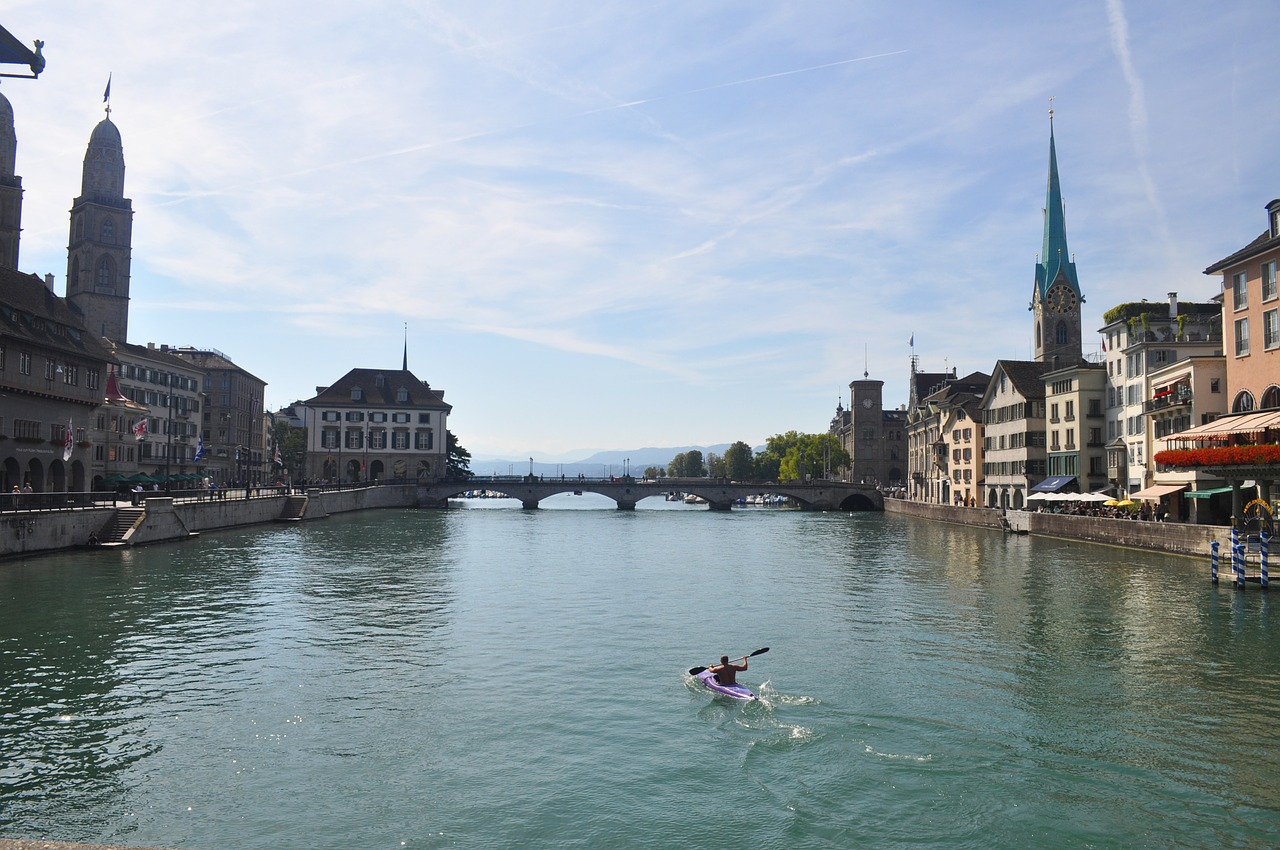kayak: (693, 656, 763, 712)
